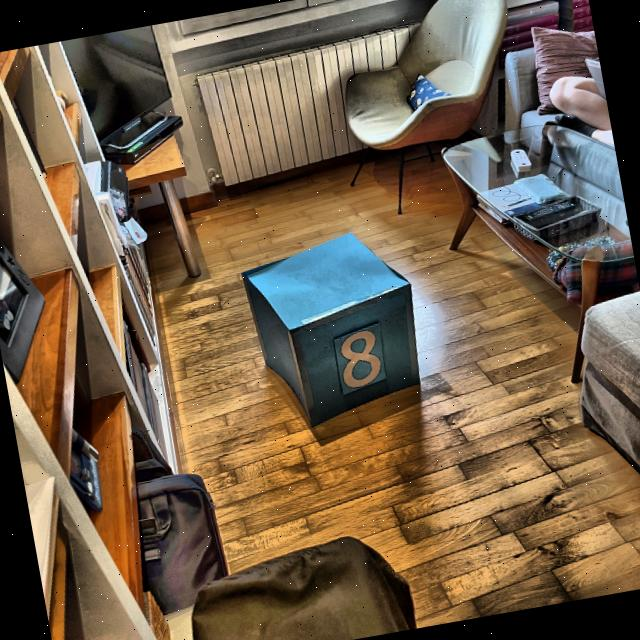blue box: (238, 222, 431, 436)
eight: (335, 328, 384, 390)
